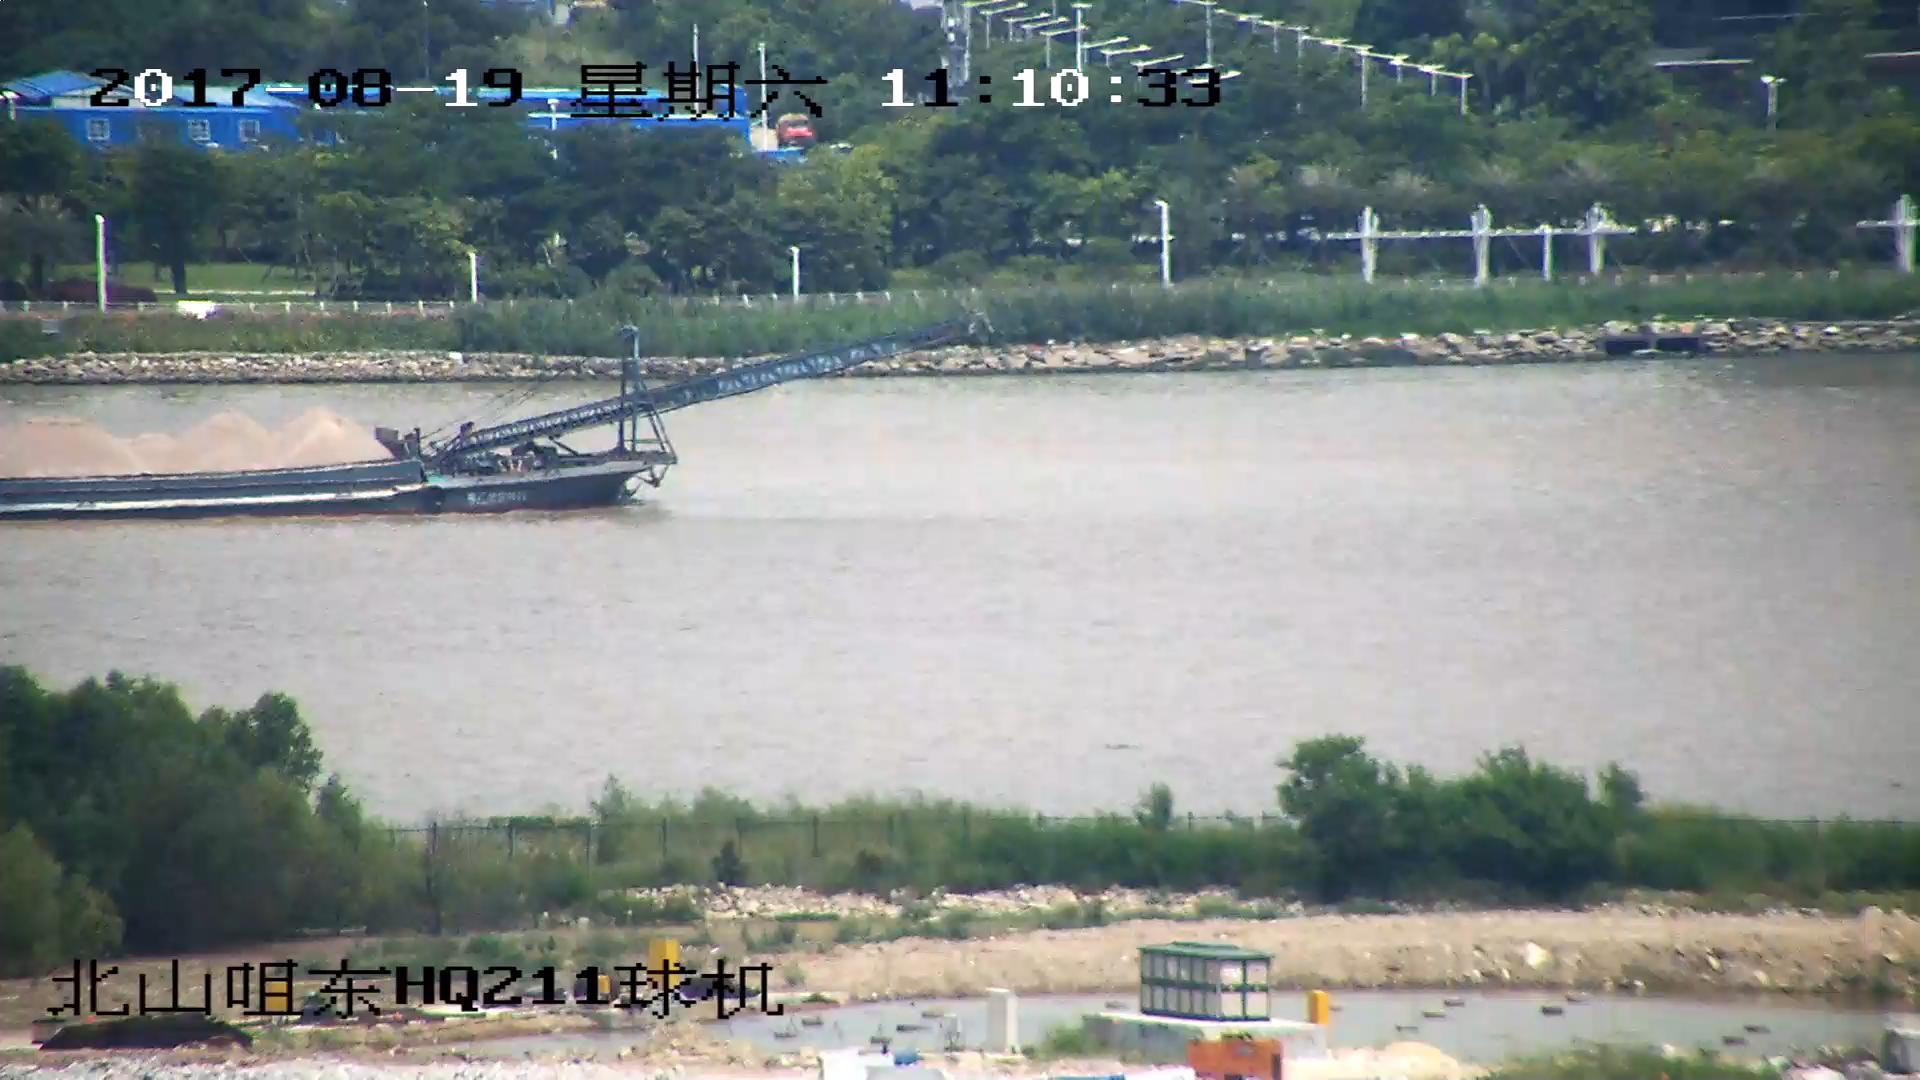Ship: (3, 316, 982, 526)
